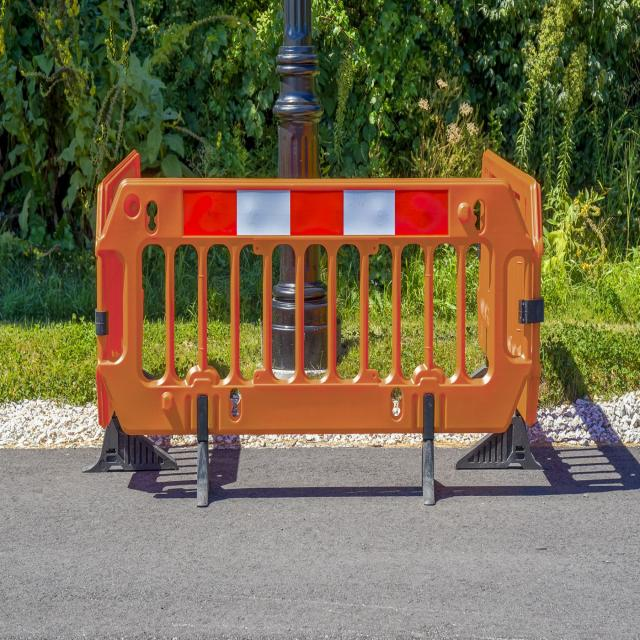cone: (84, 146, 546, 507)
